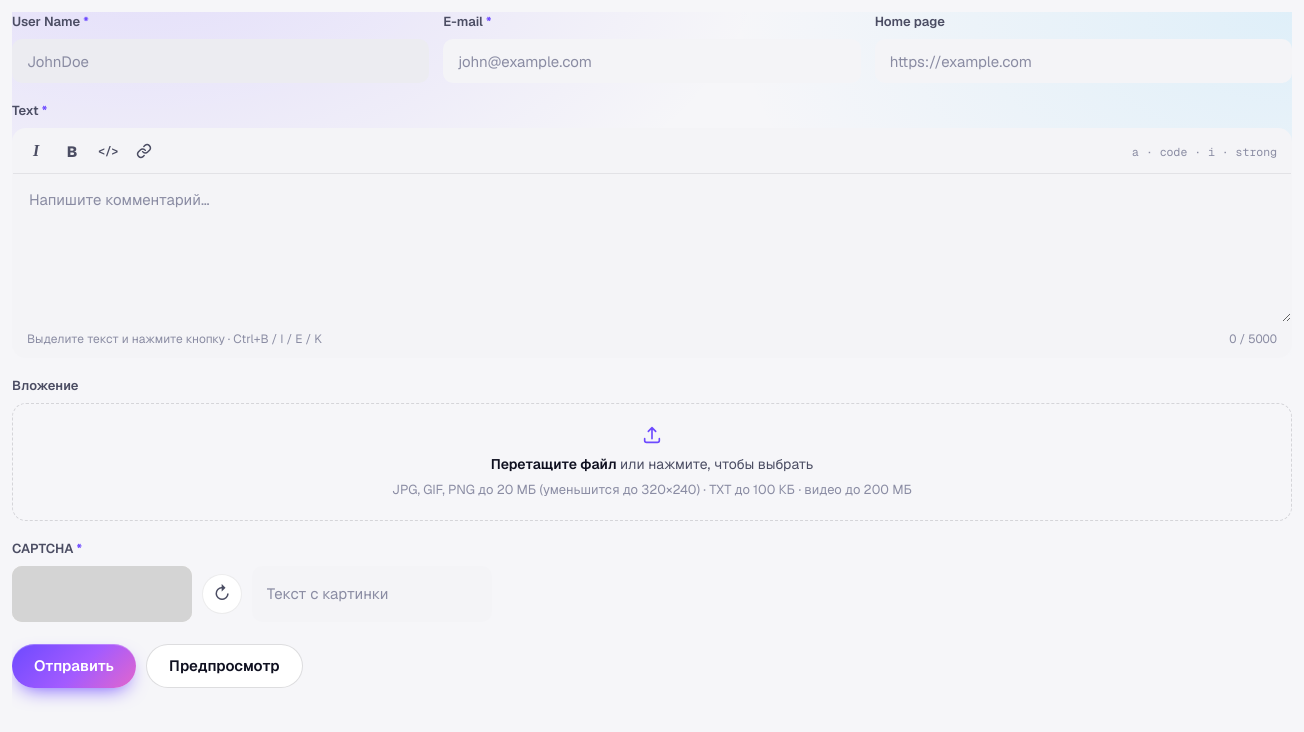
Test: CommentForm › captcha_invalid → ошибка у капчи, капча перезагружается
Step 1. Type "  John1 " into the field with placeholder "JohnDoe" → coordinates (221, 61), box [12,39,429,83]
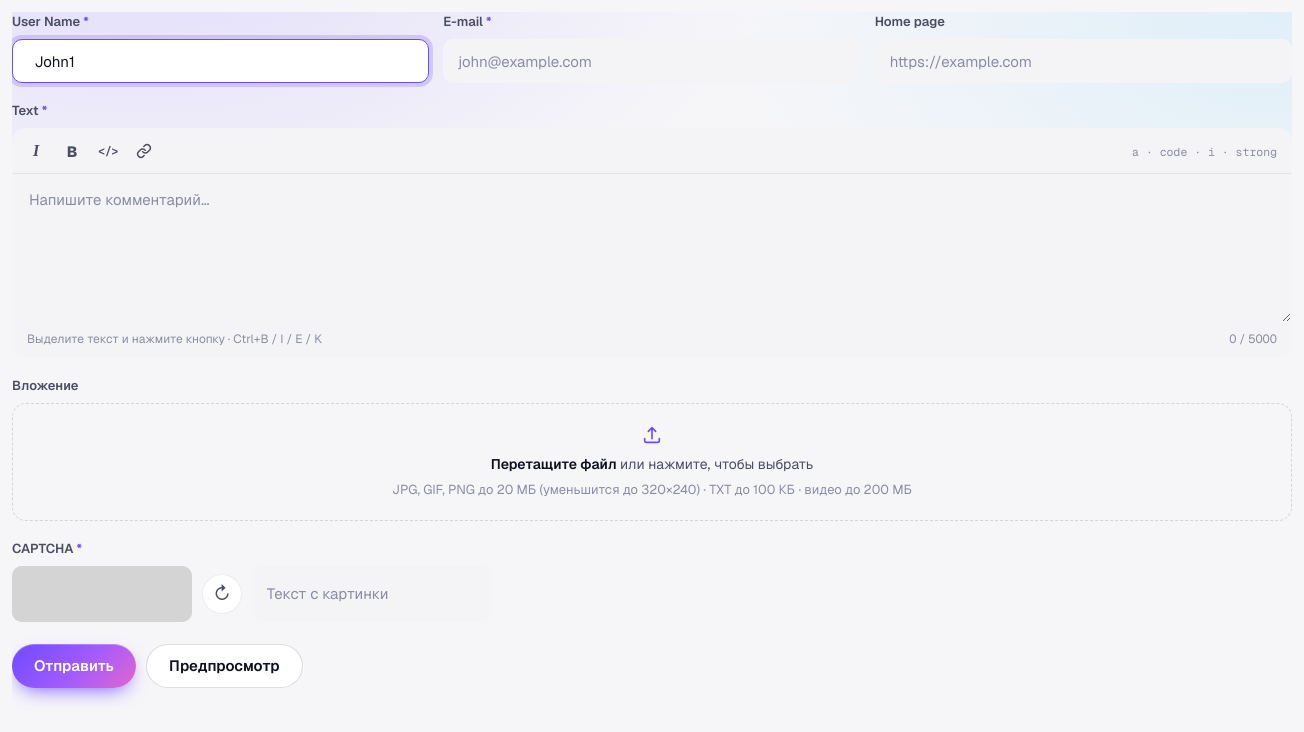
Step 2. Type "john@ex.com" into the field with placeholder "john@example.com" → coordinates (652, 61), box [443,39,861,83]
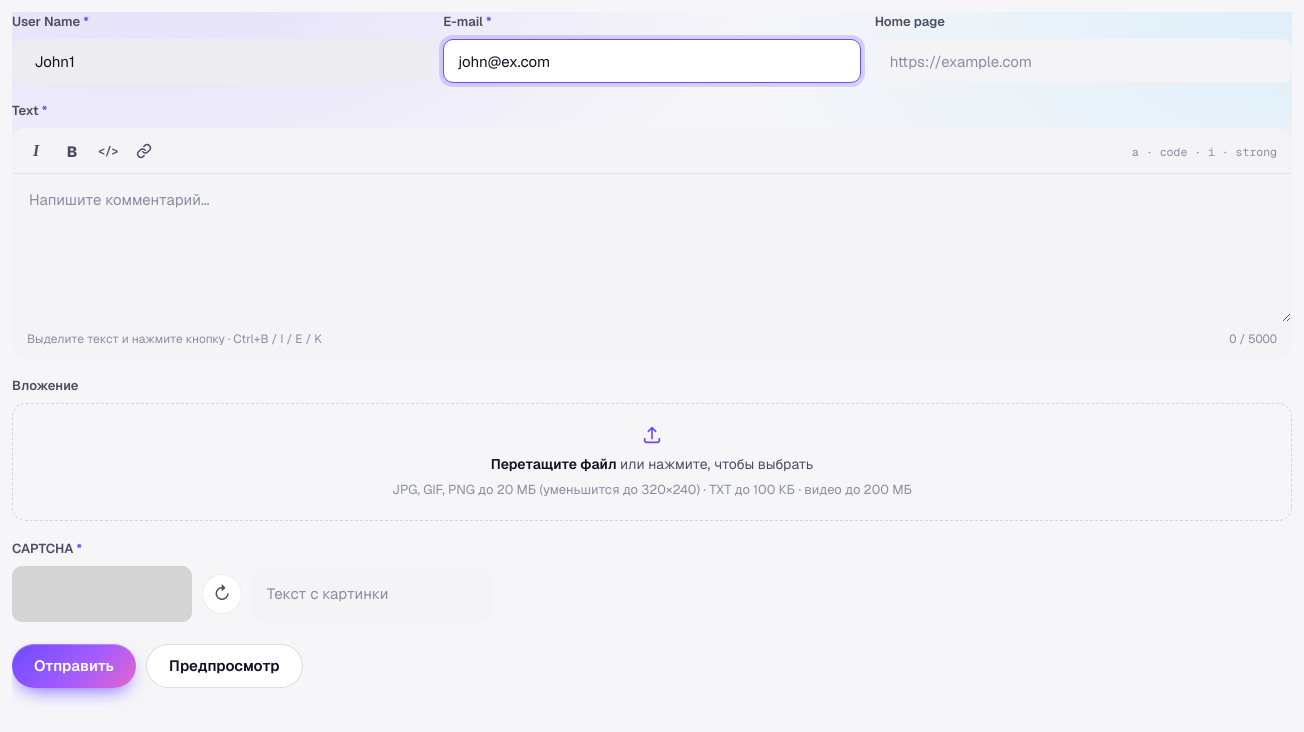
Step 3. Type "Hello <i>w</i>" into the text box labelled "Text *" → coordinates (652, 248), box [13,174,1291,322]
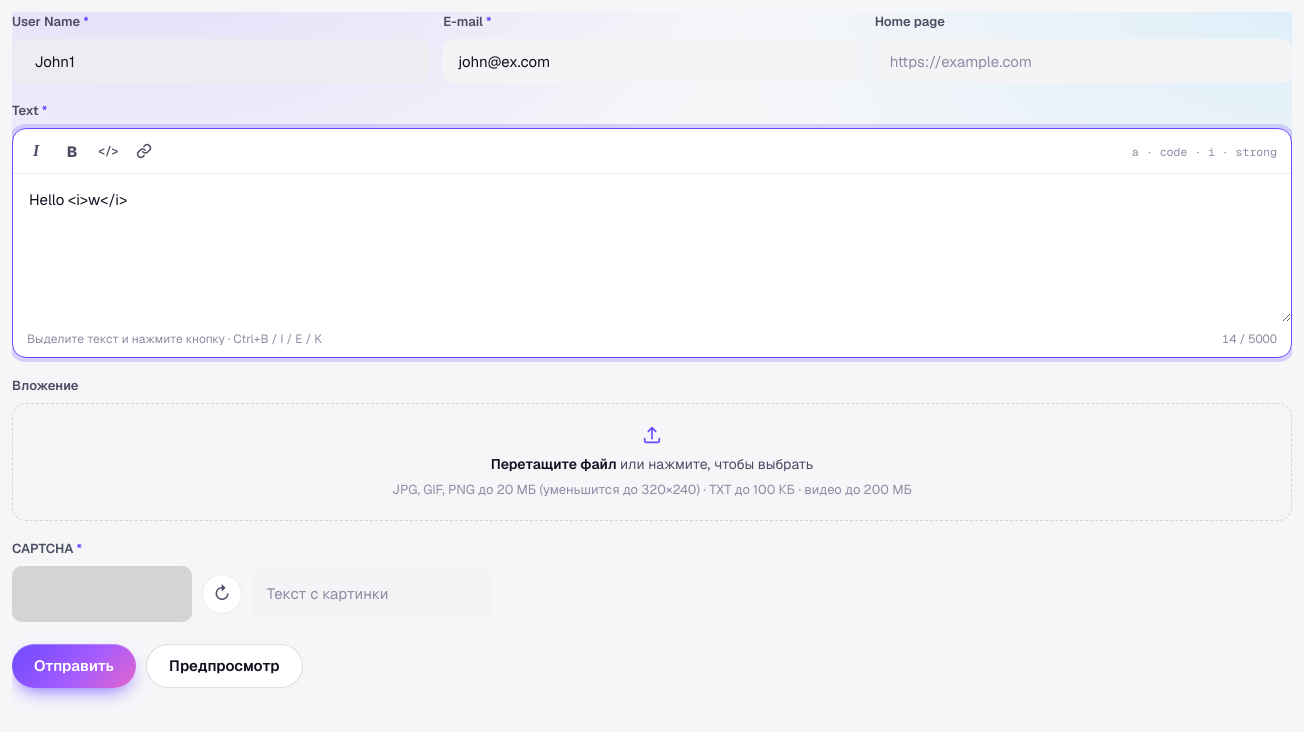
Step 4. Type " aB3 " into the field with placeholder "Текст с картинки" → coordinates (372, 594), box [252,566,492,622]
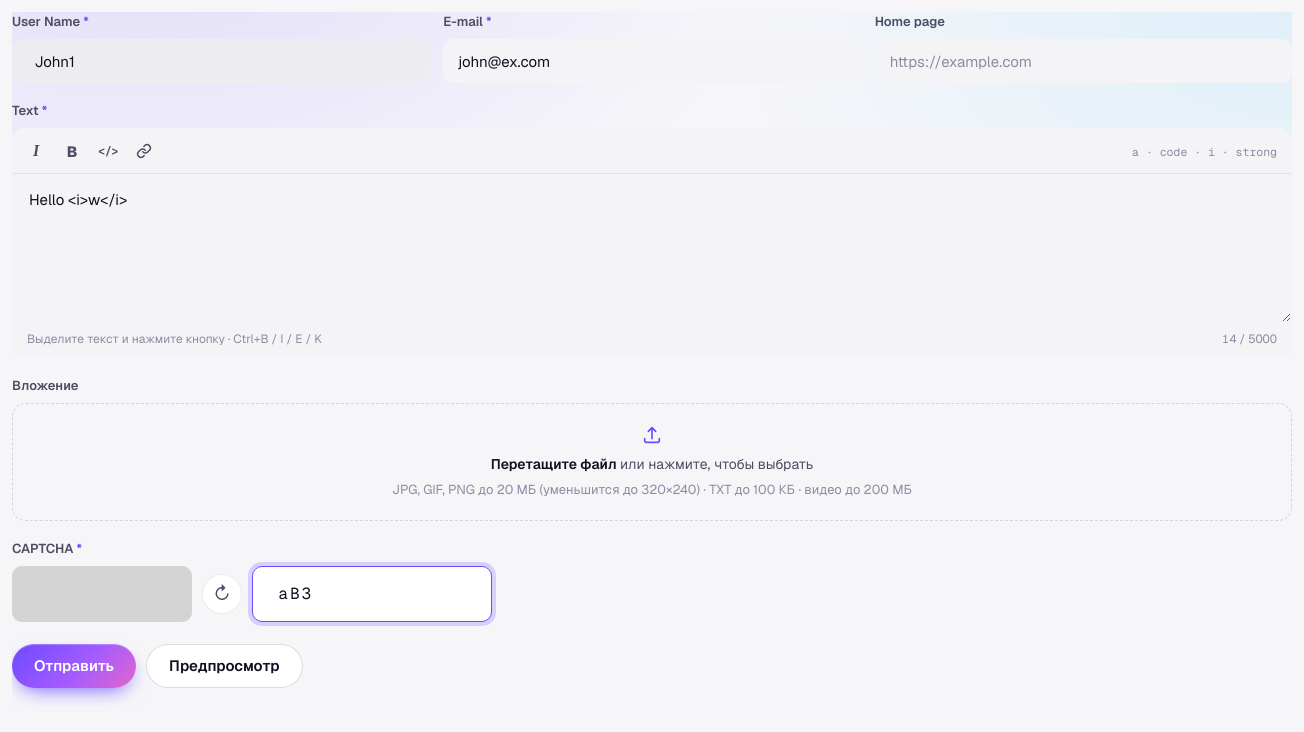
Step 5. Click the button "Отправить" → coordinates (74, 666), box [12,644,136,688]
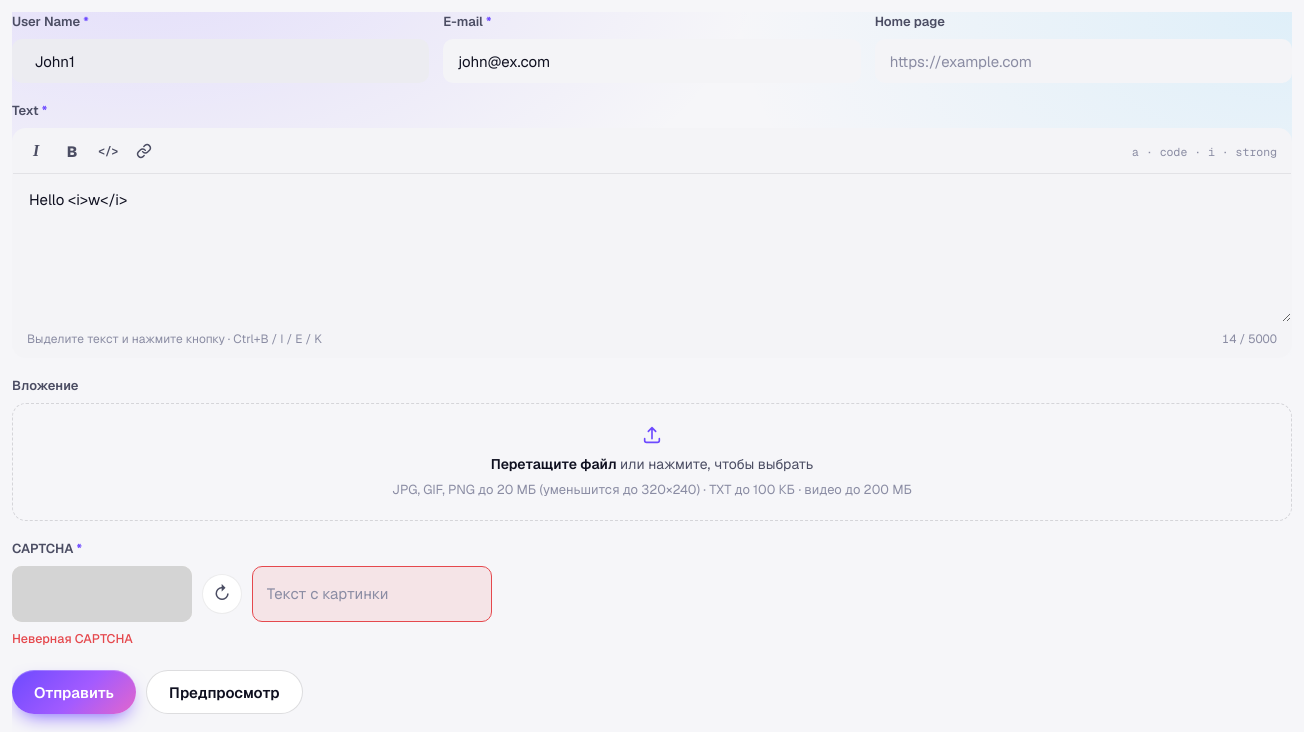
Check: the text "Неверная CAPTCHA" is shown, box [12,630,133,647]
Check: the field with placeholder "Текст с картинки" is empty, box [252,566,492,622]
